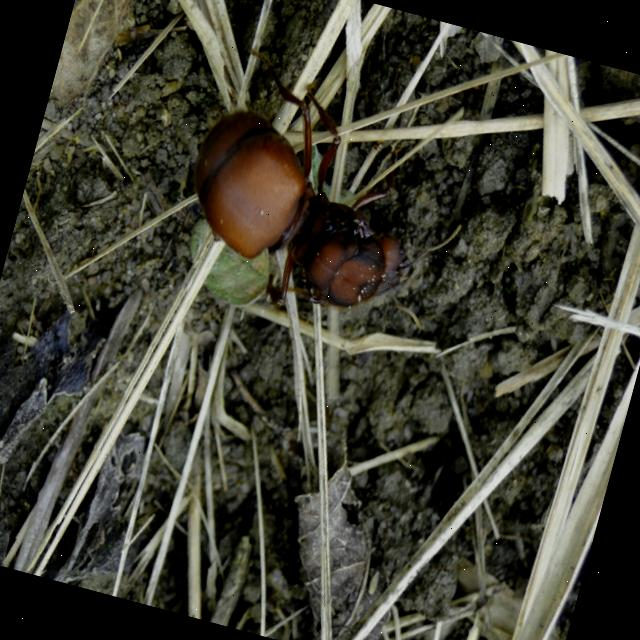Alive-Female-Dealate: (163, 40, 492, 349)
